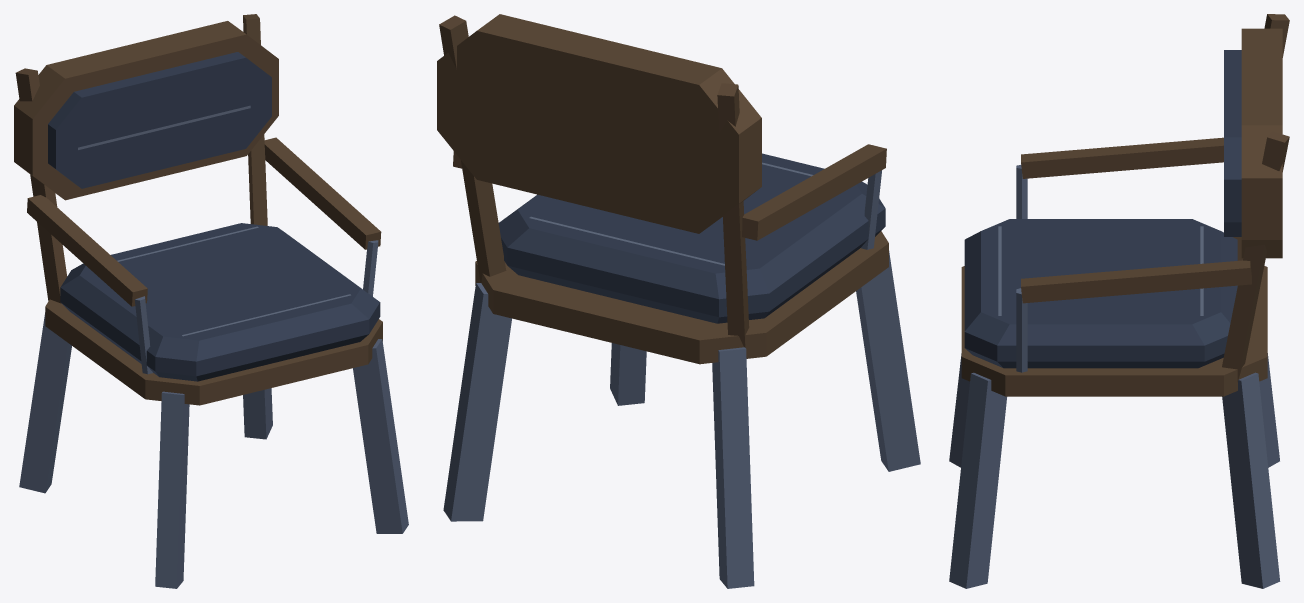
File: res_dining_chair.glb
The picture shows the model from 3 angles, left to right: view 1: azimuth 30°, elevation 25°; view 2: azimuth 150°, elevation 25°; view 3: azimuth 270°, elevation 25°; orthographic projection. The views are drawn at different scales.
Visible parts, largest first — view 1: piped_cushion, arm_bridge, arm_strut, back_welt; view 2: arm_bridge, piped_cushion, arm_strut; view 3: piped_cushion, arm_bridge, arm_strut, back_welt.
Boxes of the visible parts, x1,y1,x2,y2 form: piped_cushion: [48, 52, 380, 381]; arm_bridge: [14, 14, 382, 405]; arm_strut: [19, 240, 408, 588]; back_welt: [78, 105, 350, 336]; arm_bridge: [437, 14, 888, 364]; piped_cushion: [498, 153, 885, 323]; arm_strut: [443, 170, 920, 588]; piped_cushion: [964, 50, 1241, 368]; arm_bridge: [961, 14, 1289, 396]; arm_strut: [949, 165, 1280, 588]; back_welt: [998, 226, 1203, 315].
Bounding box in the file's own units: 0.62 × 0.96 × 0.66.
